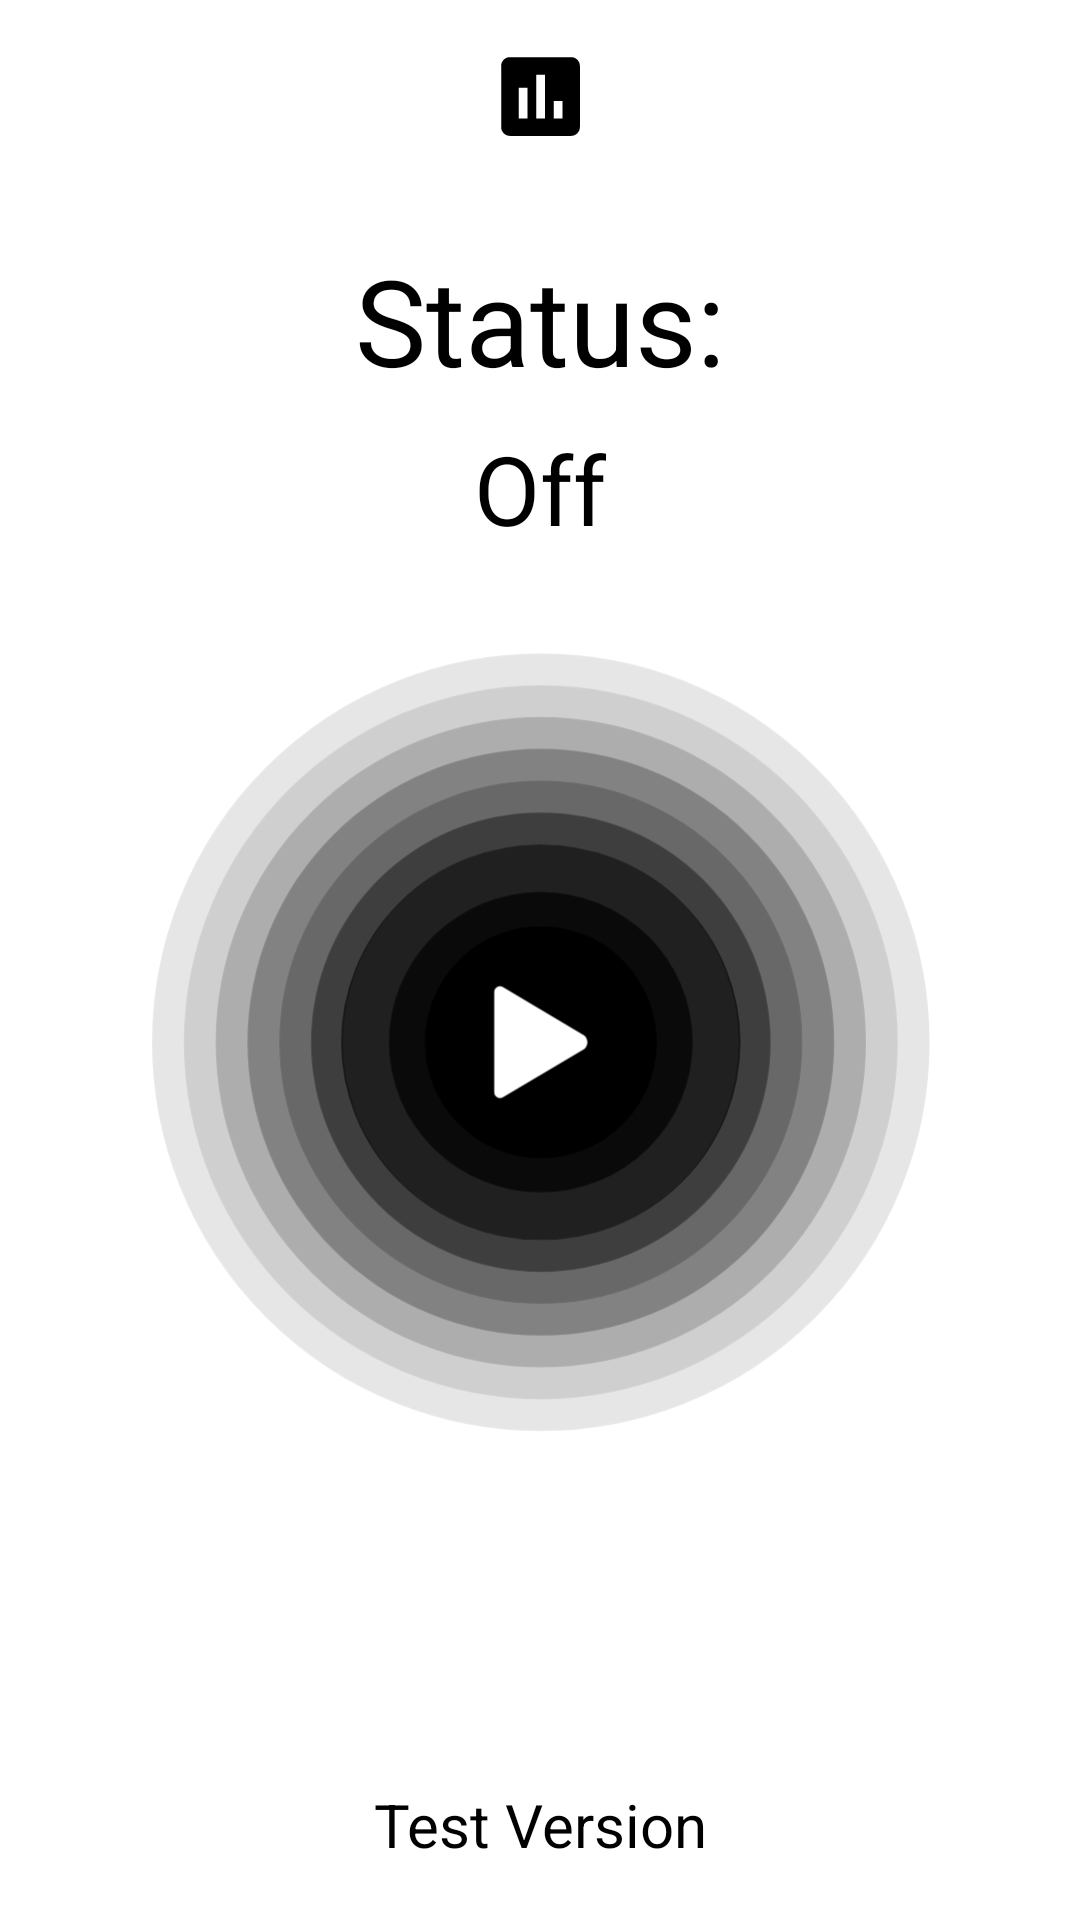

Icon click points for this 1080x1920 phone screenshot, format (x,y):
Statistics tab: (540,96)
